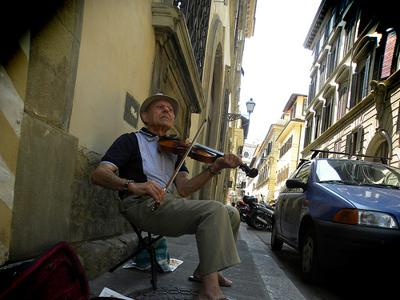person: (92, 93, 244, 300)
